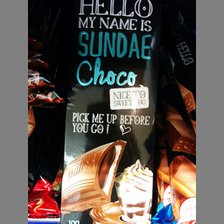chocolate: (61, 1, 156, 224)
